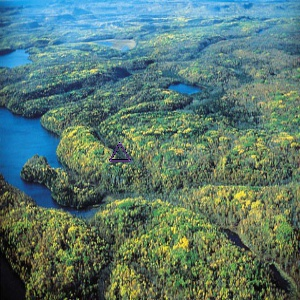triangle: (108, 141, 131, 164)
